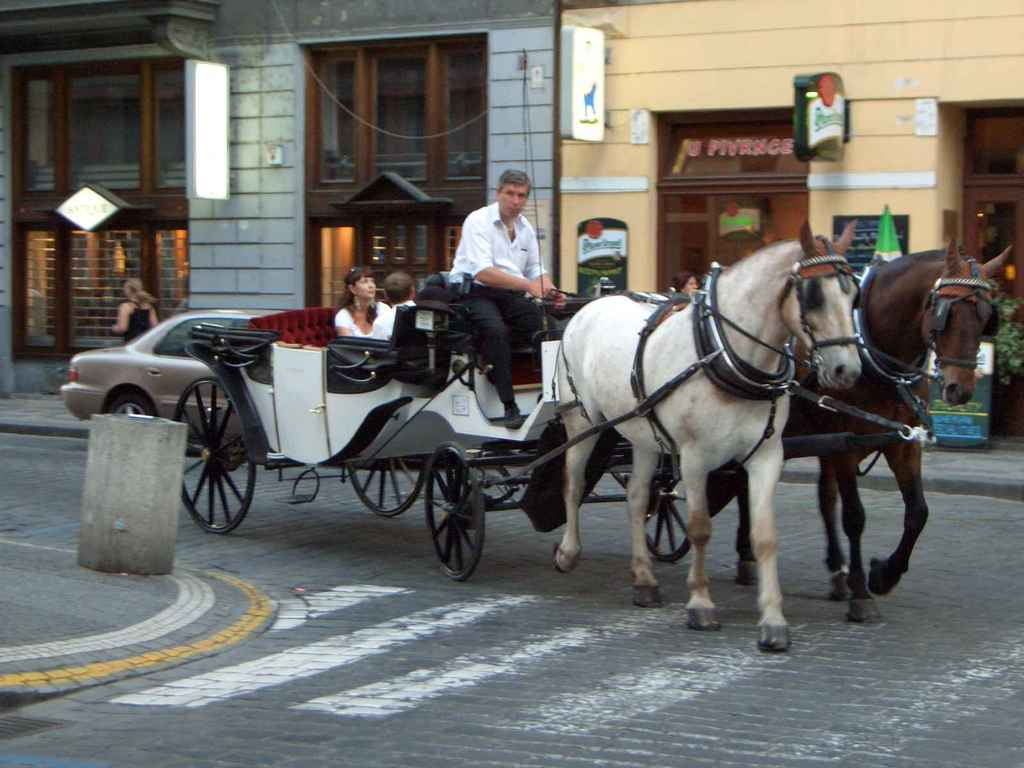horse: (552, 218, 862, 652)
